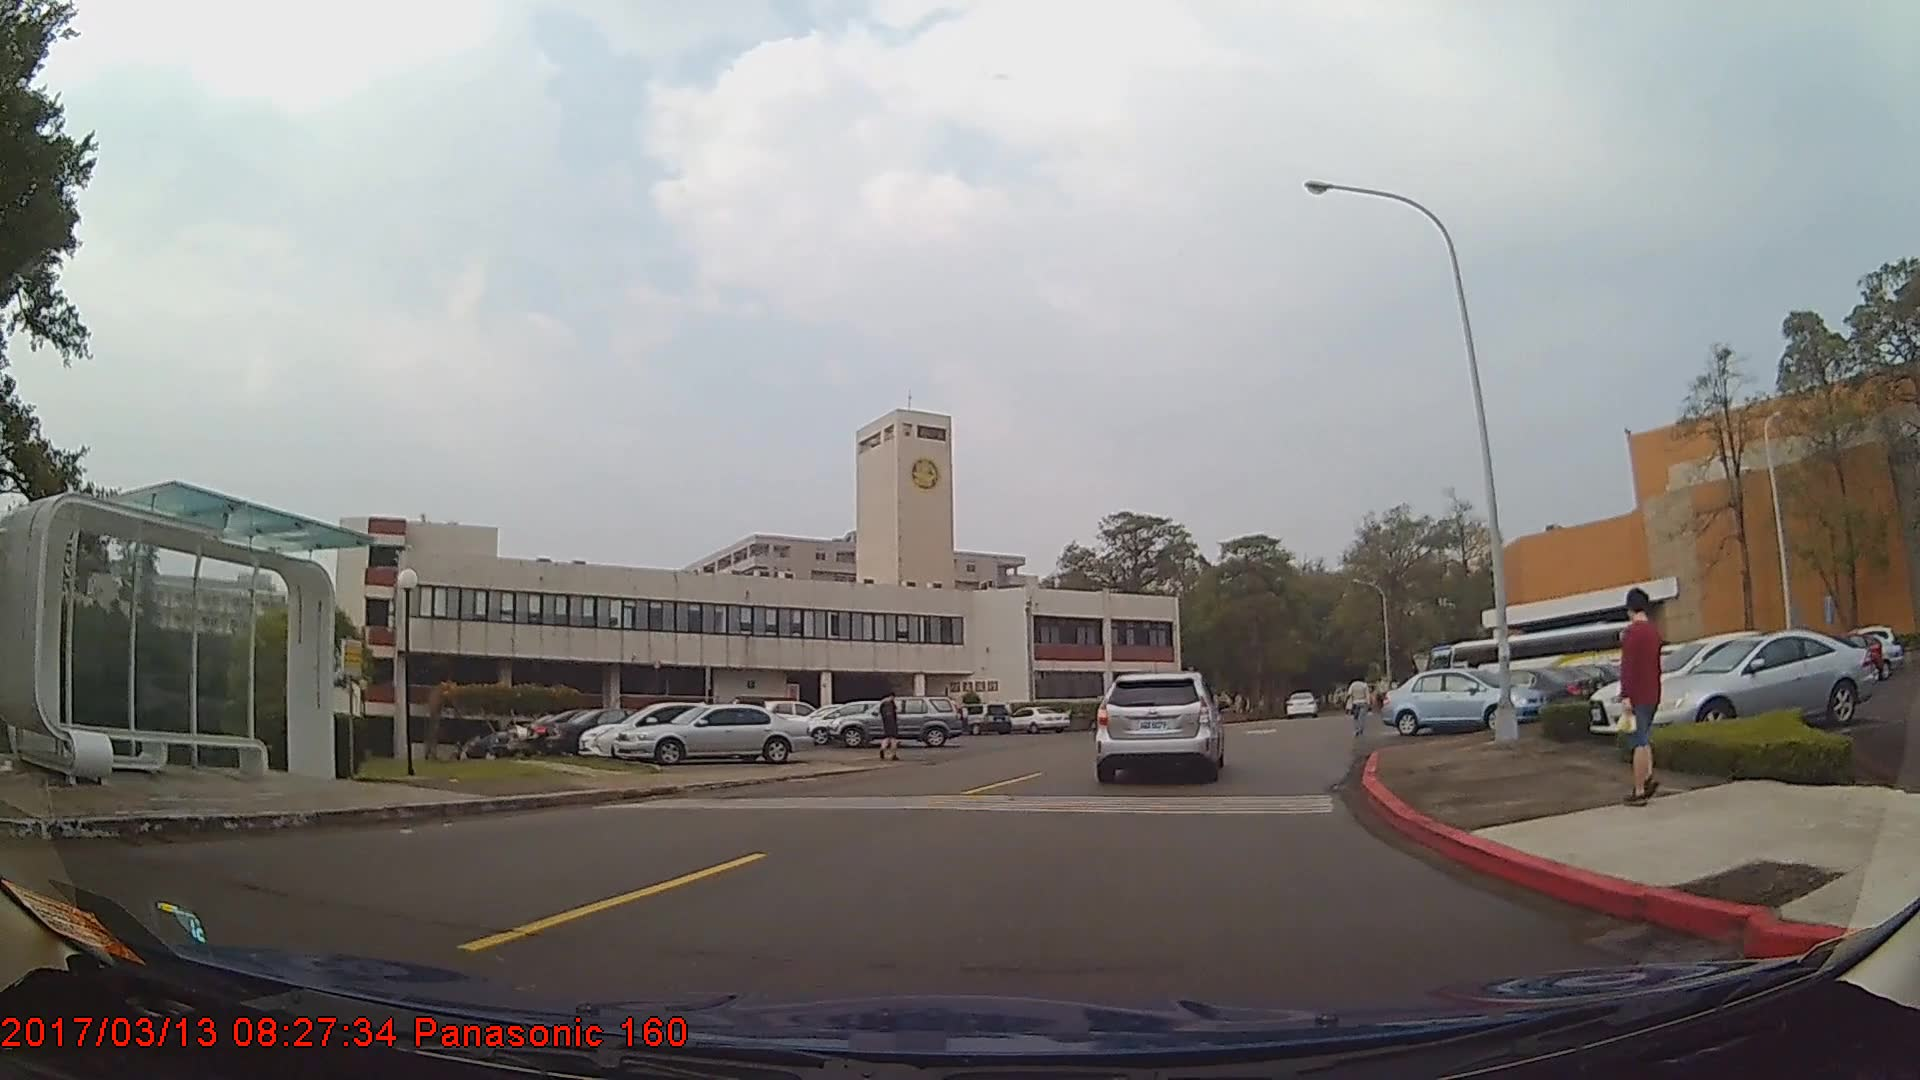pedestrian: (1615, 587, 1674, 807), (875, 689, 904, 762), (1346, 672, 1373, 737)
vehicle: (1586, 630, 1831, 735), (1642, 629, 1877, 735), (1096, 669, 1222, 785), (613, 702, 814, 763), (574, 697, 771, 757), (1376, 668, 1545, 737), (544, 705, 687, 758), (833, 693, 967, 745), (1001, 702, 1069, 733), (949, 699, 1013, 733), (1284, 686, 1318, 716)
